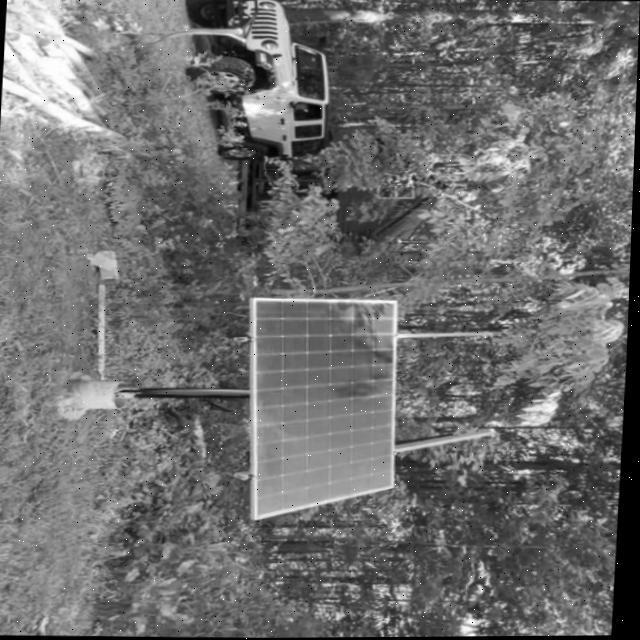Normal Solar Panel: (242, 299, 406, 523)
